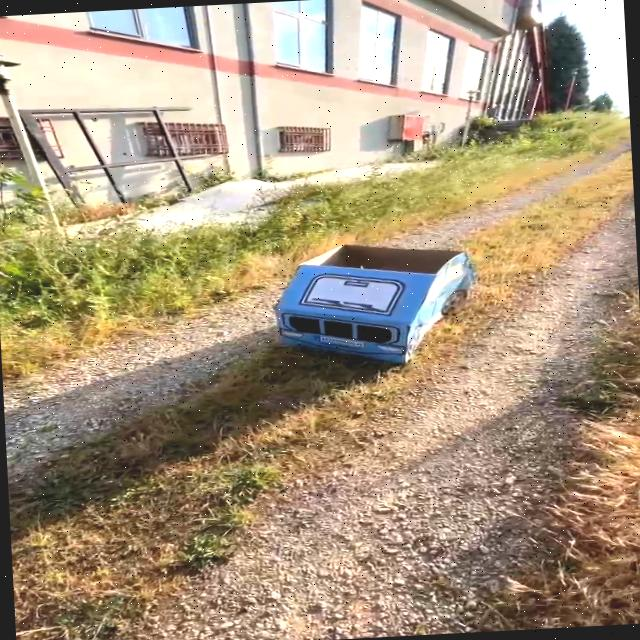blue_car: (230, 225, 528, 397)
